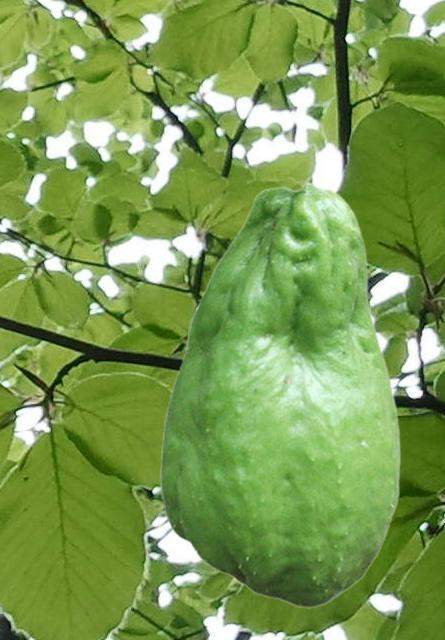sayote: (159, 181, 400, 607)
